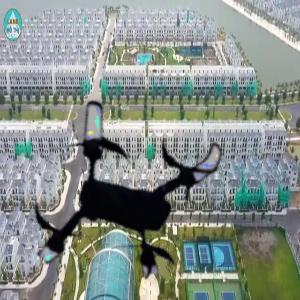drone: (17, 78, 233, 294)
